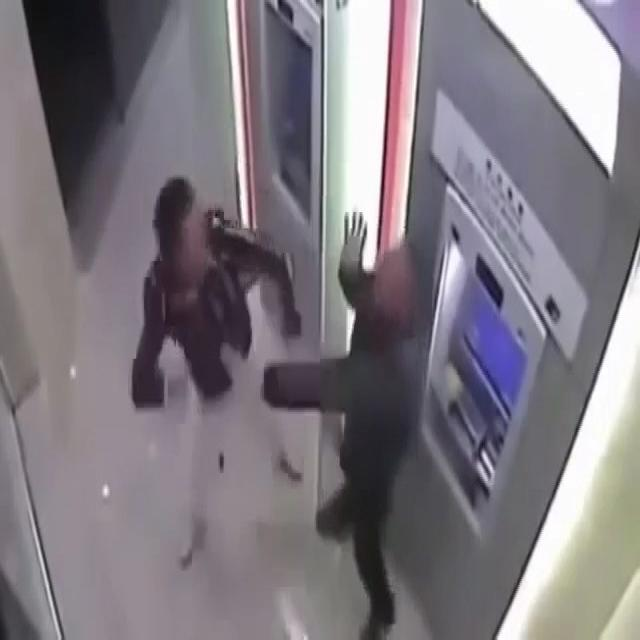fight: (153, 173, 427, 485)
